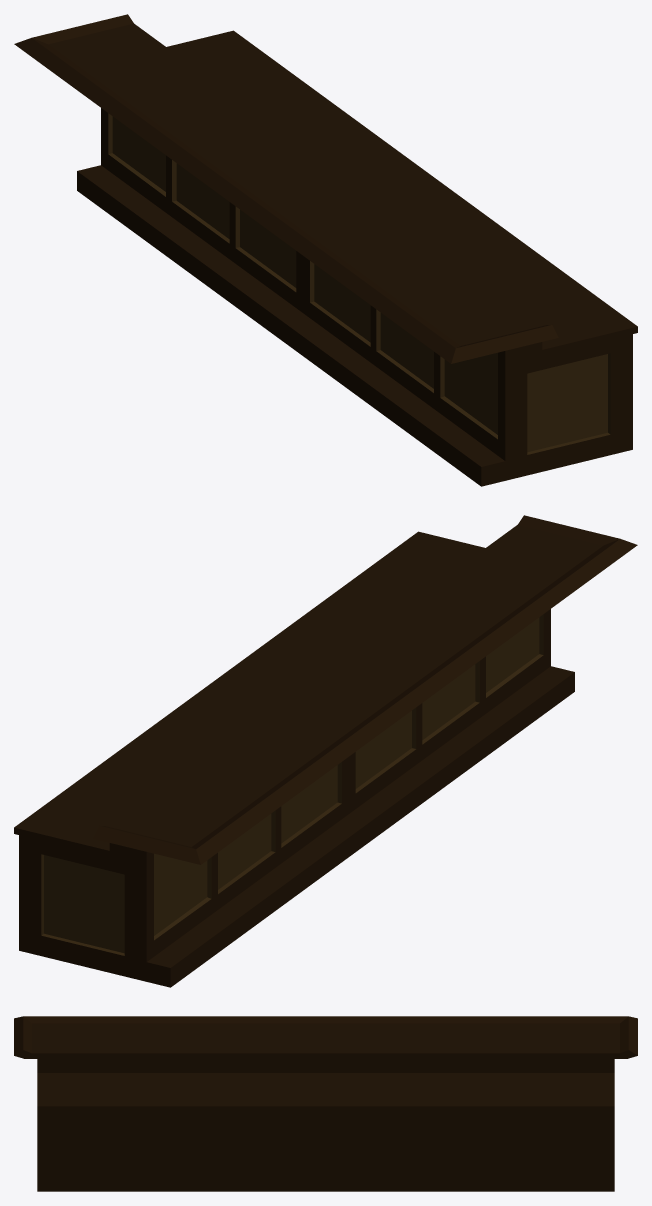
File: bar_b01.dae
3 renders of one model, top to bottom at view 1: azimuth 30°, elevation 25°; view 2: azimuth 150°, elevation 25°; view 3: azimuth 270°, elevation 25°, orthographic. The views are drawn at different scales.
Parts seen in each view (by area): view 1: bar.1, bar; view 2: bar.1, bar; view 3: bar.1.
Part boxes in pixels (<box>): bar.1: <box>14,14,637,486</box>; bar: <box>108,113,610,454</box>; bar.1: <box>14,515,637,987</box>; bar: <box>41,614,543,955</box>; bar.1: <box>14,1016,637,1191</box>.
Size of the model in its own units: 25.59 by 18.57 by 95.36.
